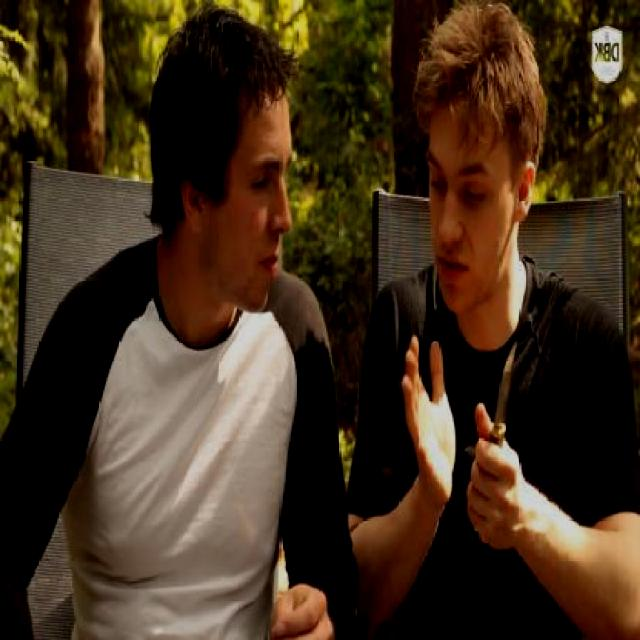knife: (461, 321, 534, 517)
